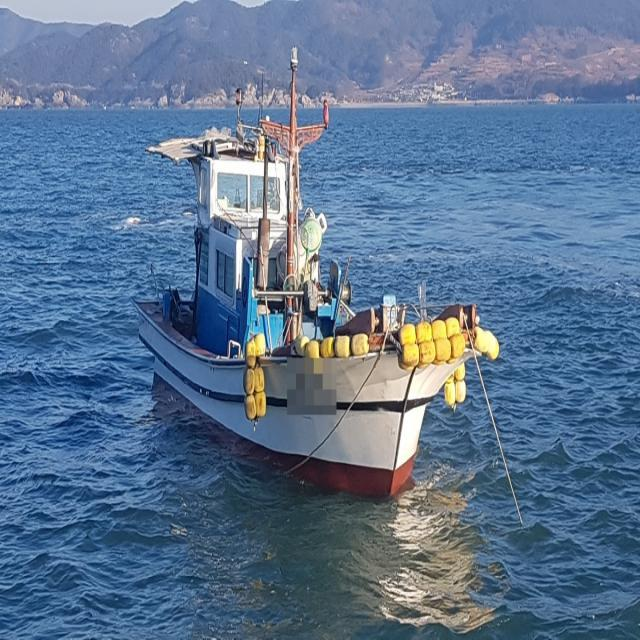Ship: (129, 40, 505, 511)
